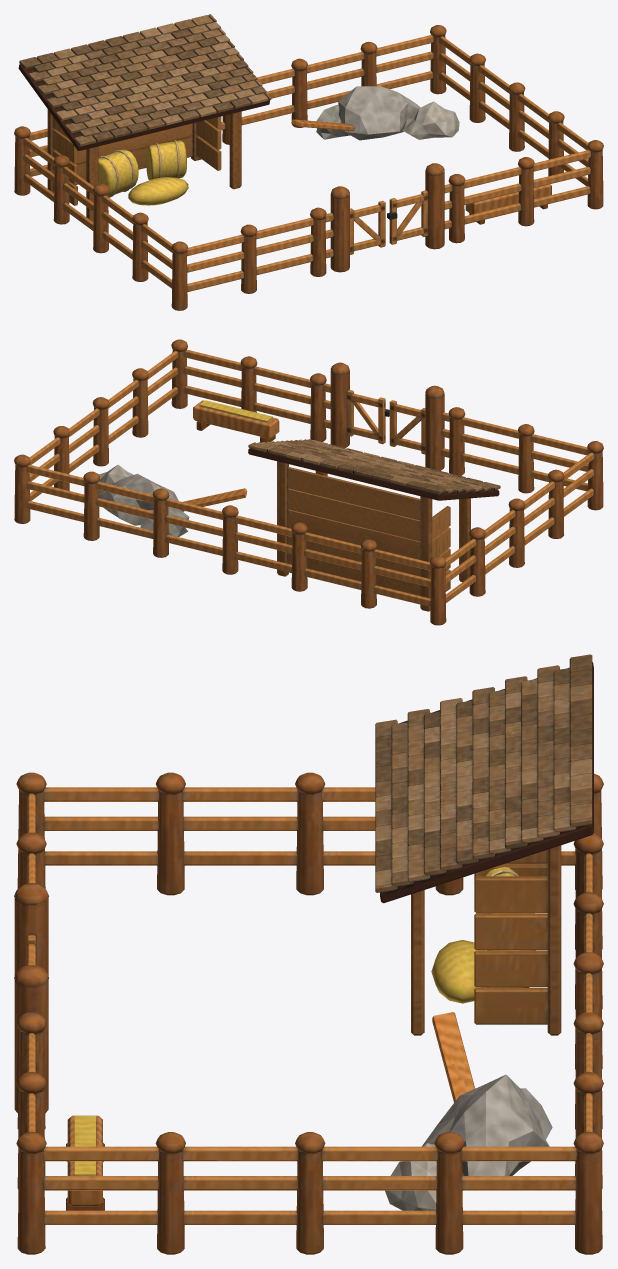
Rendered from cashmere_yard.glb.
3 views of the same model, one above another, from view 1: azimuth 30°, elevation 25°; view 2: azimuth 150°, elevation 25°; view 3: azimuth 270°, elevation 25° (orthographic). The views are drawn at different scales.
Parts seen in each view (by area): view 1: cashmere_yard, gate1, gate0; view 2: cashmere_yard, gate1, gate0; view 3: cashmere_yard.
Boxes of the visible parts, bbox=[...] form: cashmere_yard: bbox=[14, 14, 603, 310]; gate1: bbox=[387, 190, 428, 244]; gate0: bbox=[350, 200, 385, 254]; cashmere_yard: bbox=[14, 339, 603, 625]; gate1: bbox=[347, 389, 389, 444]; gate0: bbox=[389, 400, 425, 454]; cashmere_yard: bbox=[14, 654, 603, 1254].
Size of the model in its own units: 3 by 0.9343 by 2.01.
1 material, 1 textured.
